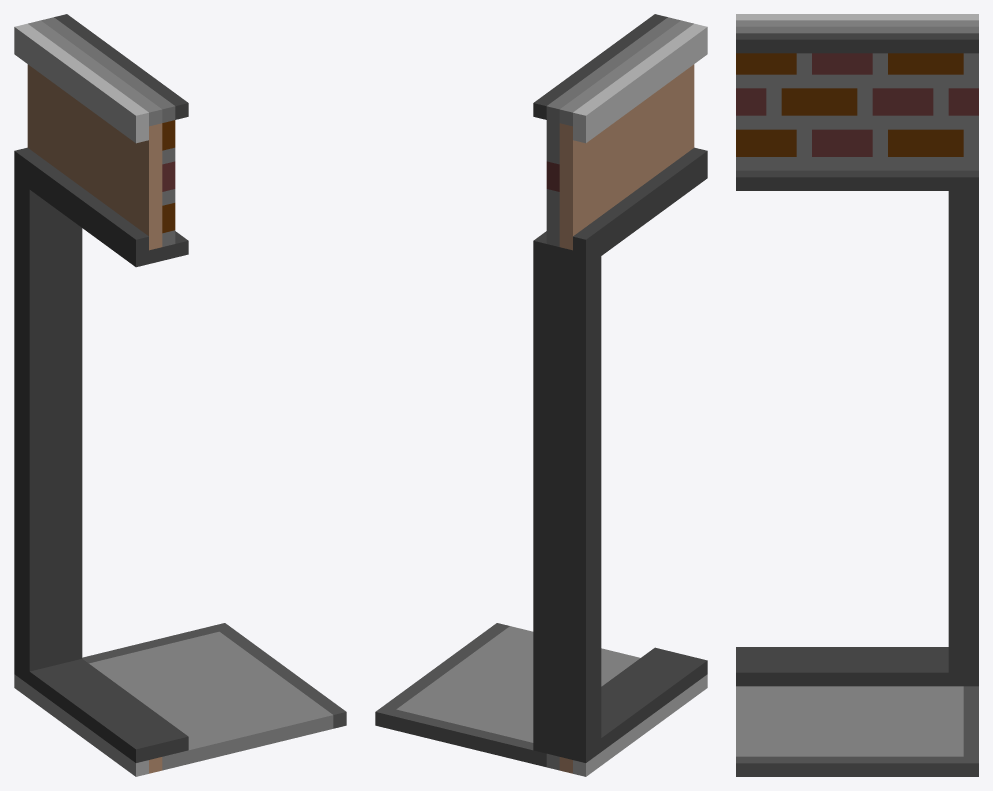
Rendered from WallsSimpleV1FrontDoorLeft.obj.
3 renders of one model, left to right at view 1: azimuth 30°, elevation 25°; view 2: azimuth 150°, elevation 25°; view 3: azimuth 270°, elevation 25°, orthographic.
Size of the model in its own units: 1.6 by 4.8 by 1.6.
Materials: 1 (1 with a texture image).
